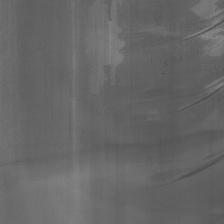crease: (171, 148, 224, 194), (177, 73, 224, 115), (183, 13, 224, 39)
